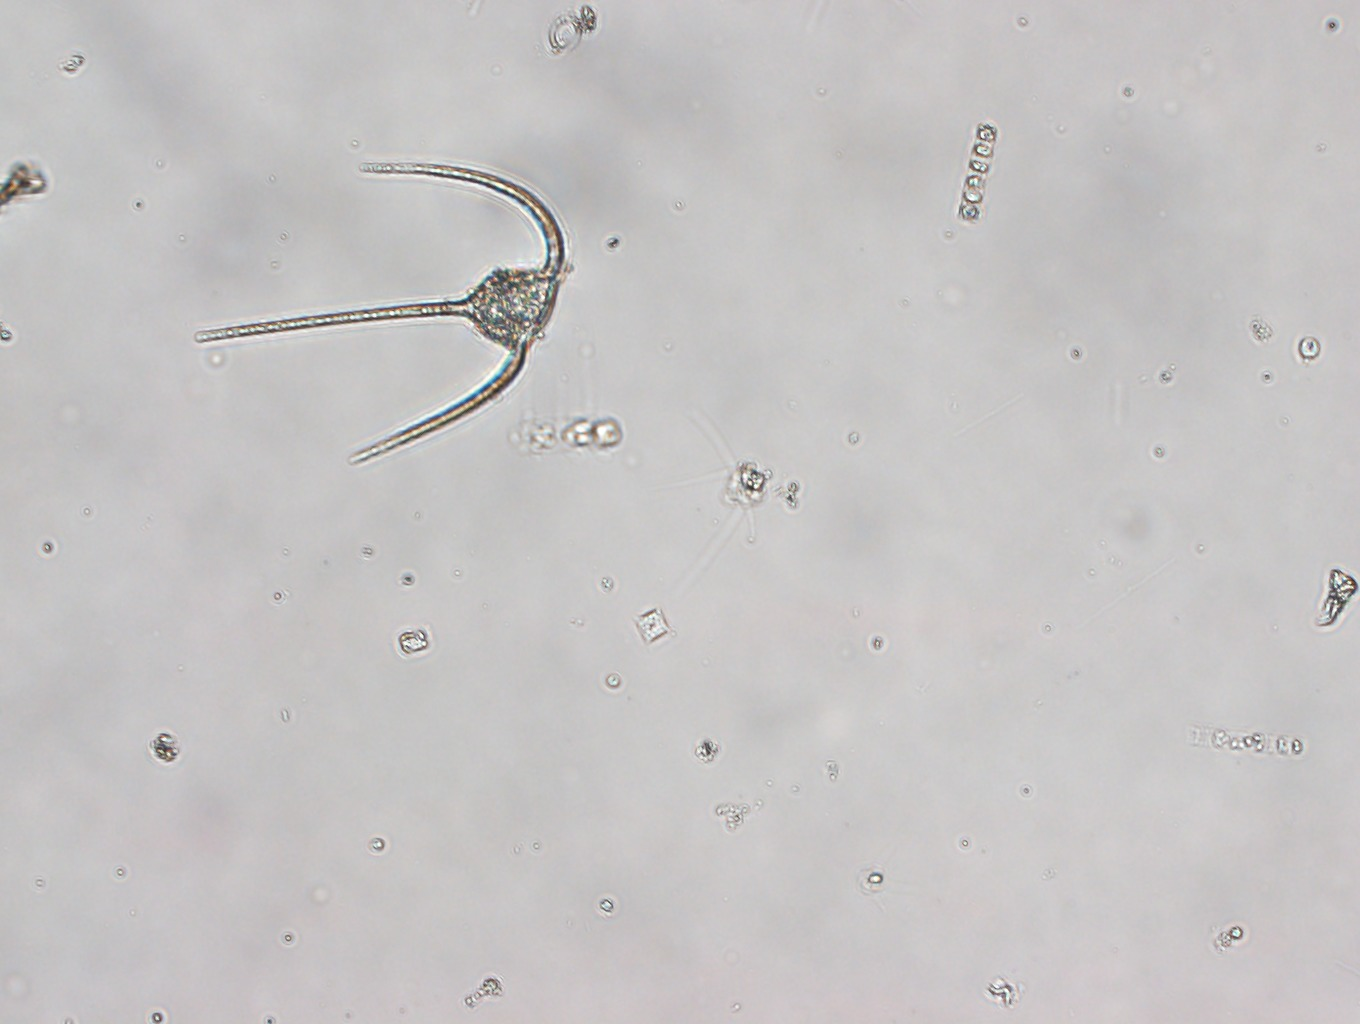ceratium trichoceros: (176, 159, 567, 465)
skeletonema: (956, 122, 997, 226)
